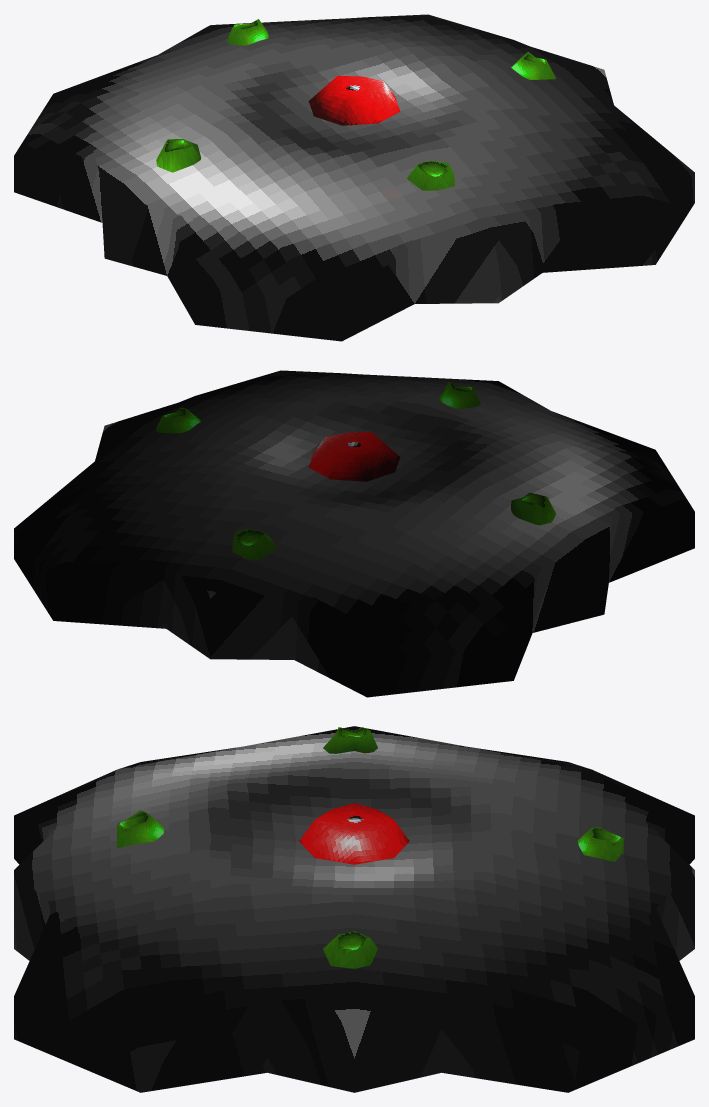
File: GproximitymineZ.obj
The picture shows the model from 3 angles, top to bottom: view 1: azimuth 30°, elevation 25°; view 2: azimuth 150°, elevation 25°; view 3: azimuth 270°, elevation 25°; orthographic projection. The views are drawn at different scales.
Size of the model in its own units: 86 by 18 by 86.
Materials: 4 (4 with a texture image).
